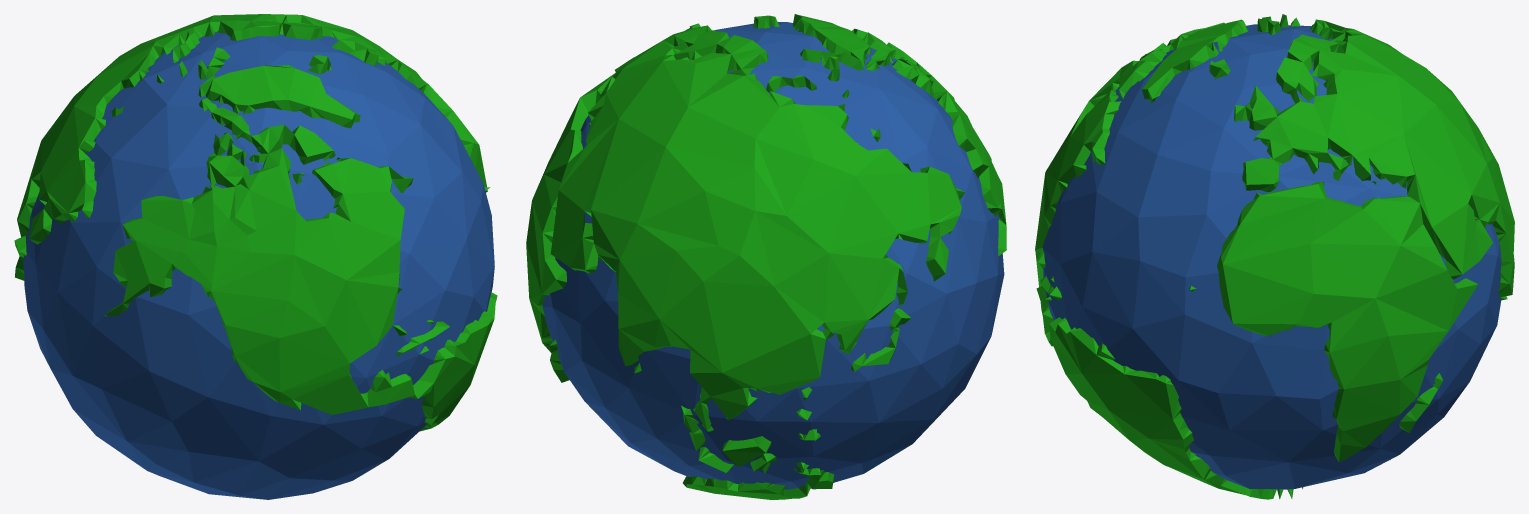
Rendered from low_poly_earth.obj.
3 renders of one model, left to right at view 1: azimuth 30°, elevation 25°; view 2: azimuth 150°, elevation 25°; view 3: azimuth 270°, elevation 25°, orthographic.
Visible parts, largest first — view 1: low_poly_earth_Sphere.004; view 2: low_poly_earth_Sphere.004; view 3: low_poly_earth_Sphere.004.
Part boxes in pixels (<box>): low_poly_earth_Sphere.004: <box>14,14,497,499</box>; low_poly_earth_Sphere.004: <box>526,14,1006,499</box>; low_poly_earth_Sphere.004: <box>1035,14,1514,499</box>.
Bounding box in the file's own units: 1.95 × 2.01 × 1.99.
